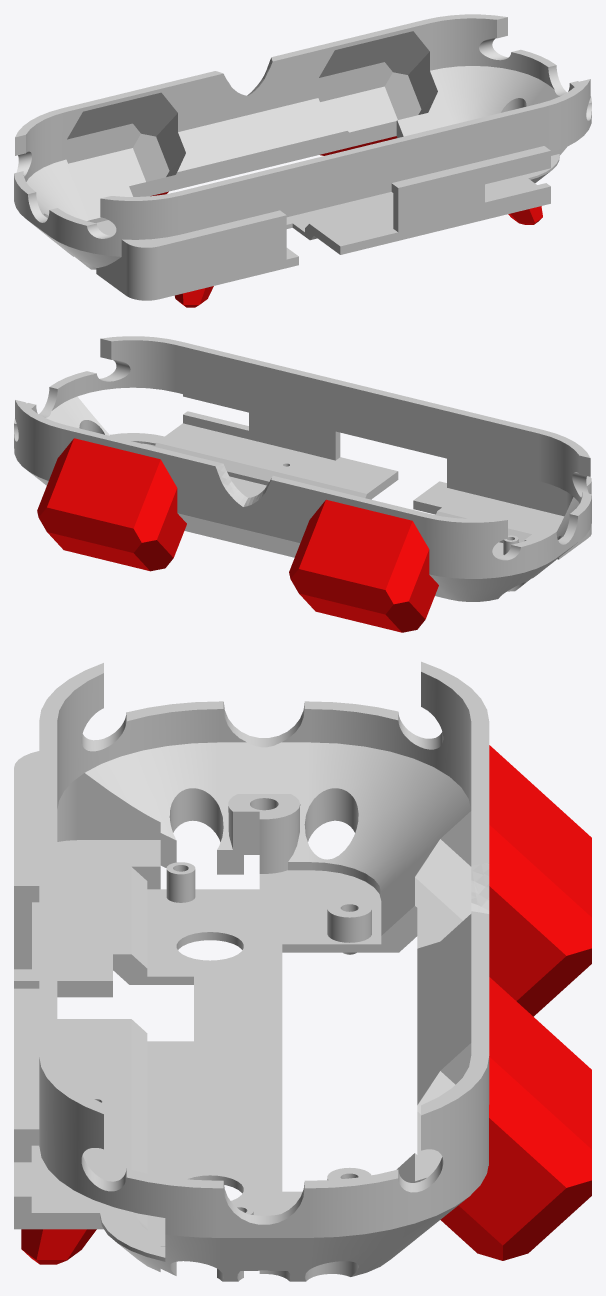
File: case.gltf
The picture shows the model from 3 angles, top to bottom: view 1: azimuth 30°, elevation 25°; view 2: azimuth 150°, elevation 25°; view 3: azimuth 270°, elevation 25°; orthographic projection. The views are drawn at different scales.
Bounding box in the file's own units: 0.128 × 0.0263 × 0.0642.
